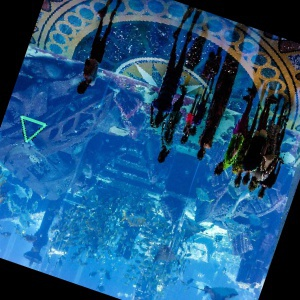triangle: (18, 113, 49, 145)
